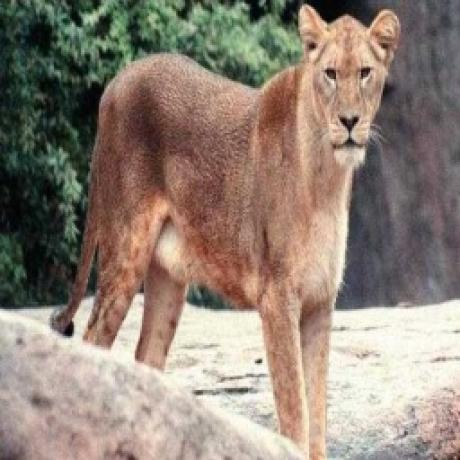Lion: (51, 0, 399, 460)
